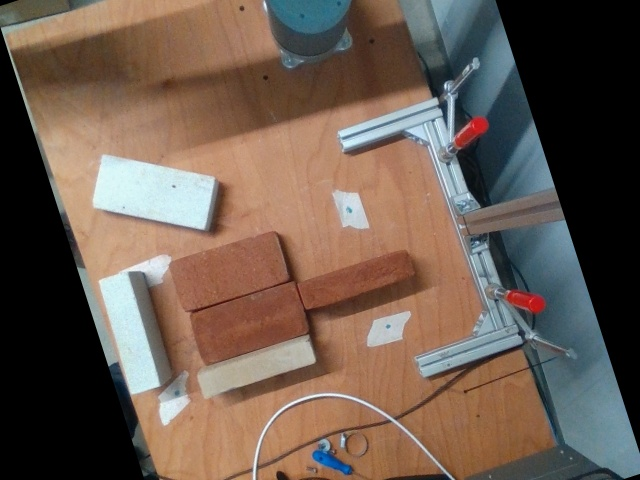brick: (189, 282, 308, 365), (169, 232, 288, 310), (93, 156, 214, 229)
brick-side: (99, 273, 161, 394), (299, 250, 414, 310), (197, 339, 314, 397)
